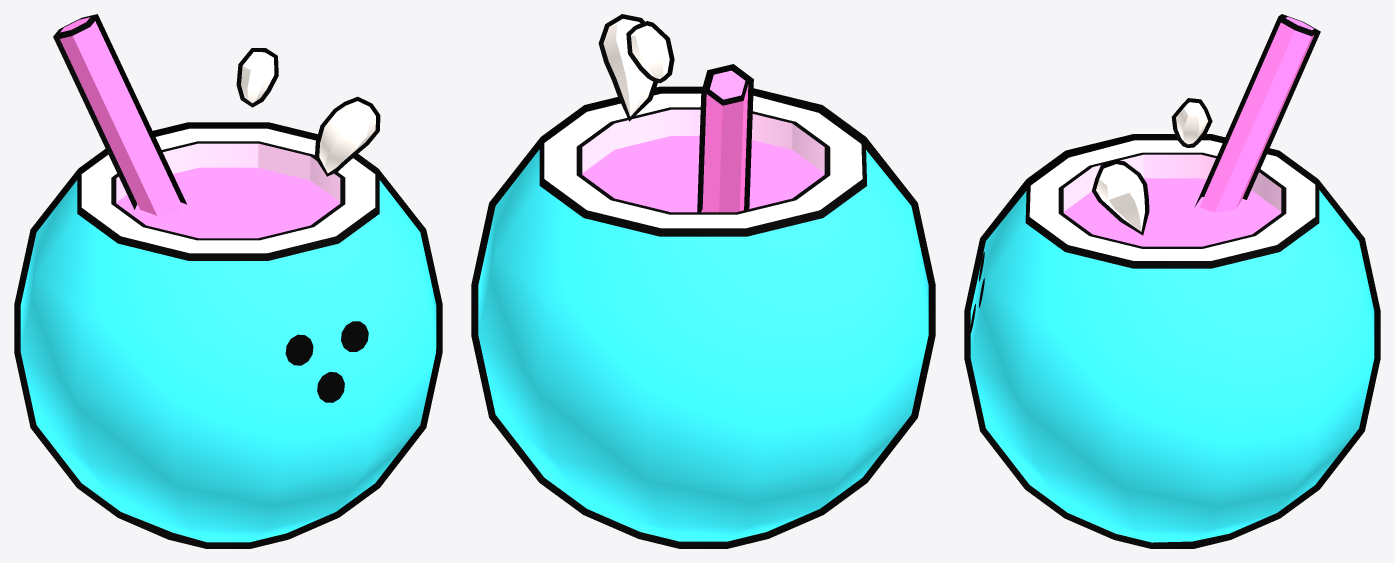
Rendered from cocobay_env_coco_drink.gltf.
The picture shows the model from 3 angles, left to right: view 1: azimuth 30°, elevation 25°; view 2: azimuth 150°, elevation 25°; view 3: azimuth 270°, elevation 25°; orthographic projection. The views are drawn at different scales.
Parts seen in each view (by area): view 1: cocobay_env_coco_drink_glb; view 2: cocobay_env_coco_drink_glb; view 3: cocobay_env_coco_drink_glb.
Part boxes in pixels (x1=…): cocobay_env_coco_drink_glb: x1=14, y1=14, x2=442, y2=548; cocobay_env_coco_drink_glb: x1=471, y1=14, x2=935, y2=548; cocobay_env_coco_drink_glb: x1=964, y1=14, x2=1380, y2=548.
Size of what is drawn, in the model's own units: 3.19 by 4.01 by 3.19.
Materials: 1 (1 with a texture image).
